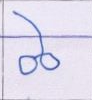o_matra: (35, 21, 49, 67)
